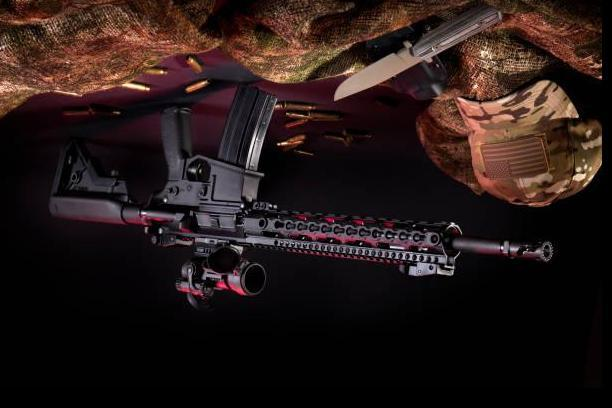larga: (49, 83, 554, 310)
